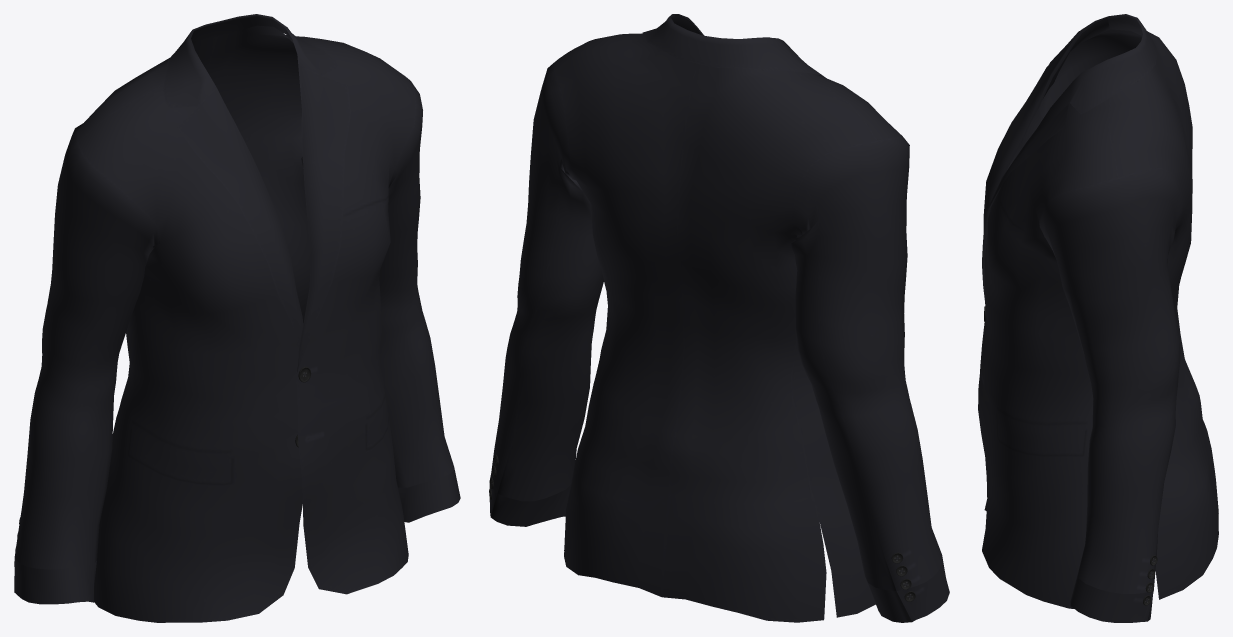
The model's file is male_suit.glb.
The picture shows the model from 3 angles, left to right: view 1: azimuth 30°, elevation 25°; view 2: azimuth 150°, elevation 25°; view 3: azimuth 270°, elevation 25°; orthographic projection. The views are drawn at different scales.
Parts seen in each view (by area): view 1: front_left, front_right, left_hand, collar, back, right_hand, left_hand_edge, right_hand_edge; view 2: back, left_hand, right_hand, front_left, collar, left_hand_edge, right_hand_edge, front_right; view 3: front_right, right_hand, back, collar, left_hand, right_hand_edge, front_left.
Boxes of the visible parts, left/top/right/bottom form: front_left: left=78, top=83, right=302, bottom=622; front_right: left=285, top=29, right=415, bottom=594; left_hand: left=14, top=123, right=159, bottom=569; collar: left=163, top=14, right=350, bottom=374; back: left=14, top=25, right=364, bottom=566; right_hand: left=301, top=77, right=453, bottom=487; left_hand_edge: left=14, top=557, right=96, bottom=604; right_hand_edge: left=398, top=467, right=460, bottom=522; back: left=489, top=35, right=915, bottom=622; left_hand: left=790, top=136, right=942, bottom=590; right_hand: left=490, top=60, right=603, bottom=501; front_left: left=792, top=72, right=902, bottom=617; collar: left=642, top=14, right=825, bottom=77; left_hand_edge: left=866, top=557, right=949, bottom=622; right_hand_edge: left=489, top=485, right=570, bottom=526; front_right: left=555, top=14, right=701, bottom=550; front_right: left=978, top=98, right=1118, bottom=608; right_hand: left=1039, top=167, right=1182, bottom=593; back: left=984, top=23, right=1218, bottom=605; collar: left=982, top=14, right=1156, bottom=306; left_hand: left=1039, top=32, right=1141, bottom=120; right_hand_edge: left=1070, top=574, right=1153, bottom=622; front_left: left=984, top=17, right=1117, bottom=510.
Size of the model in its own units: 0.6007 by 0.7146 by 0.3055.
1 material, 1 textured.
